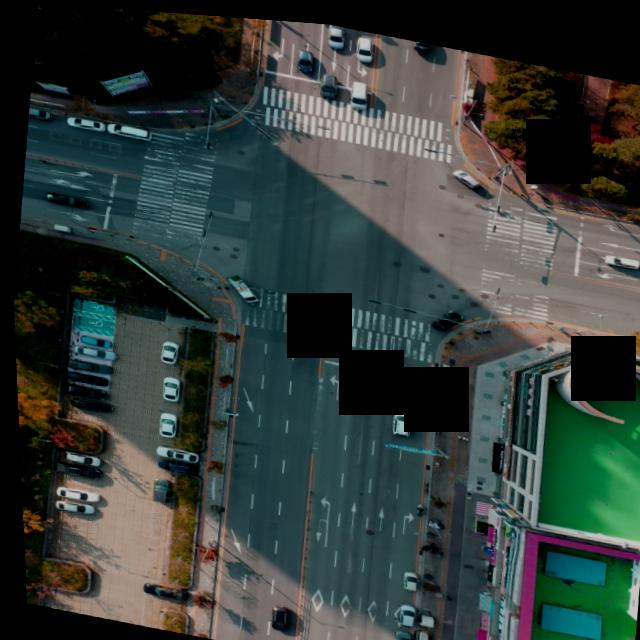car: (105, 119, 151, 139), (427, 302, 461, 328), (53, 460, 97, 480), (65, 394, 110, 413), (152, 440, 195, 458), (62, 368, 105, 386), (43, 189, 88, 206), (49, 483, 93, 500), (61, 383, 104, 400), (50, 497, 90, 515), (63, 112, 103, 130), (65, 357, 107, 374), (68, 341, 109, 358), (347, 75, 369, 106), (316, 68, 338, 97), (450, 161, 480, 182), (139, 579, 175, 596), (58, 451, 96, 467), (385, 403, 407, 430), (157, 372, 179, 399), (146, 474, 168, 501), (155, 455, 191, 471), (322, 19, 344, 45), (352, 31, 373, 58), (154, 409, 175, 435), (599, 244, 637, 258), (74, 332, 110, 346), (294, 44, 314, 69), (262, 600, 282, 625), (154, 337, 174, 361), (392, 597, 410, 621), (396, 563, 413, 584), (27, 105, 50, 119), (388, 624, 408, 640), (411, 33, 432, 45)
small_truck: (221, 270, 258, 298)
